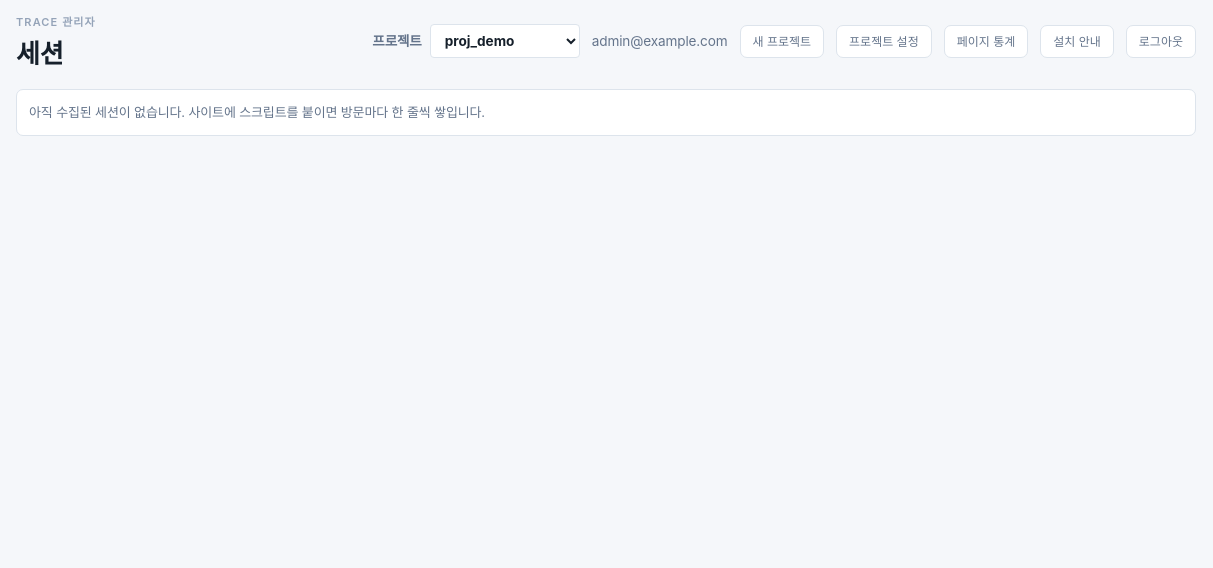
App 프로젝트 설정 › 프로젝트 설정을 저장하고 성공 메시지를 보여준다
This screenshot has width=1213, height=568.
Click the button "프로젝트 설정": (884, 41) [836,25,932,58]
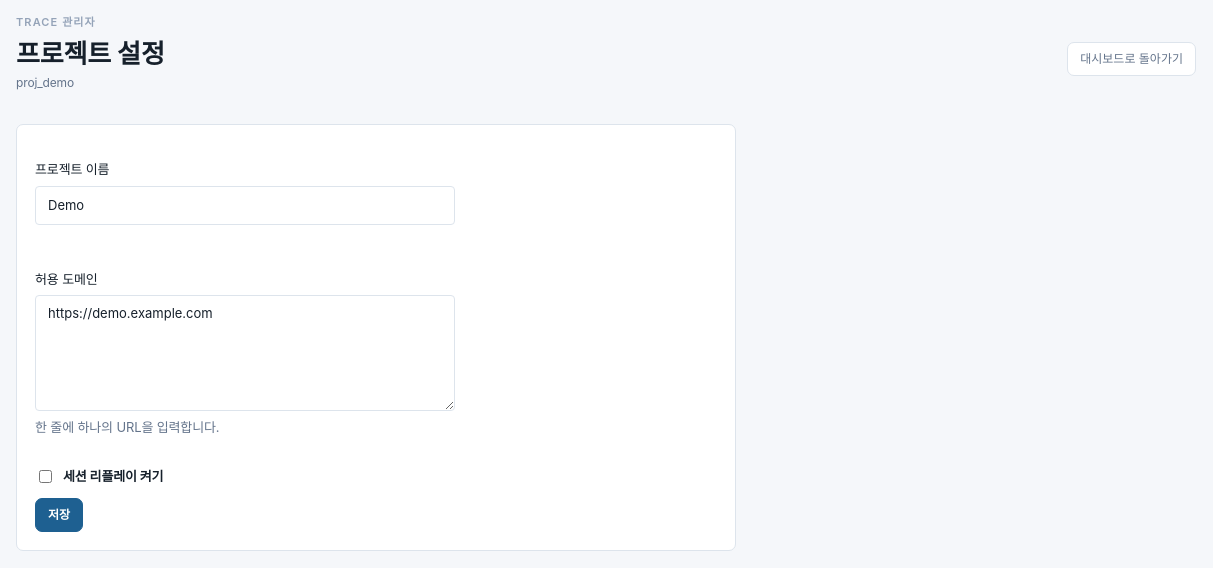
Replace the text in the field labelled "프로젝트 이름" with "New Demo": (245, 205) [35,186,455,225]
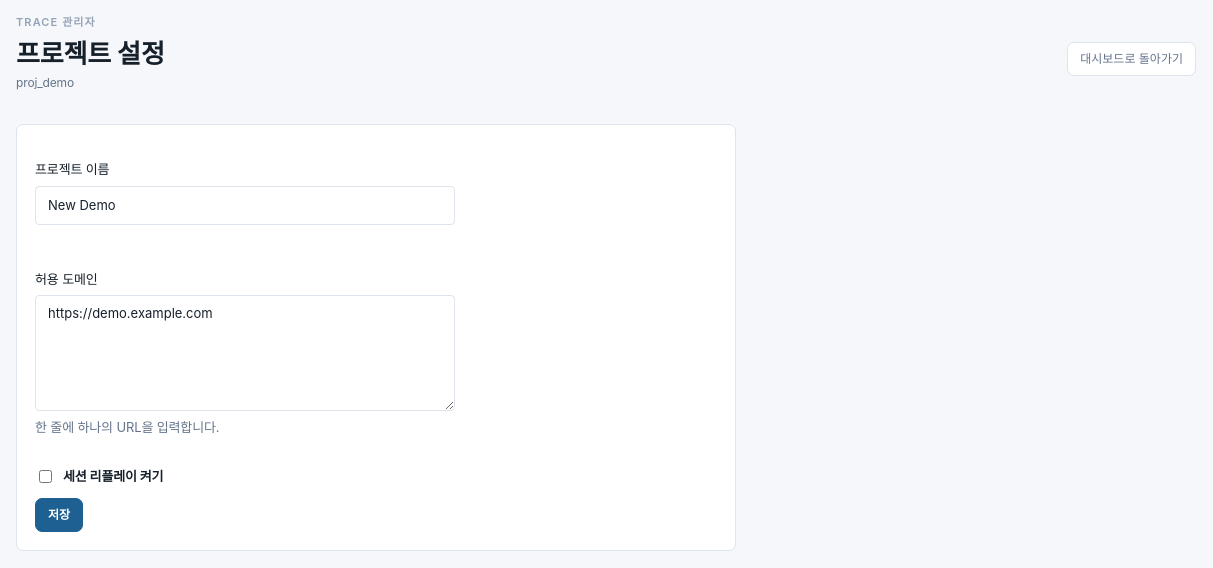
Replace the text in the text box labelled "허용 도메인" with "https://new.example.com": (245, 353) [35,295,455,411]
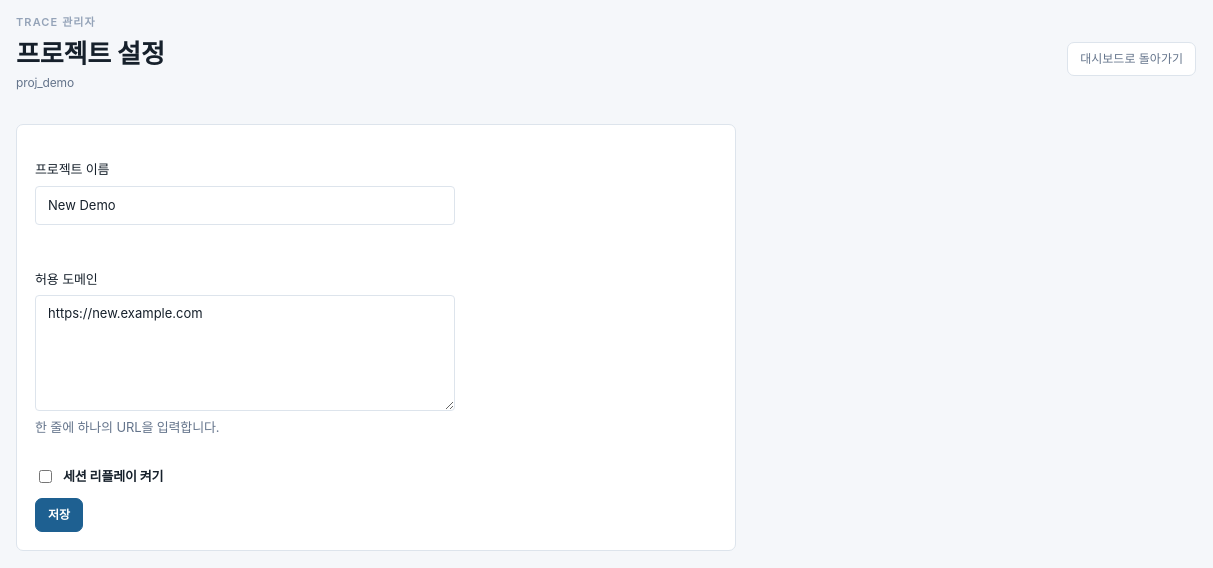
Click the button "저장": (59, 515) [35,498,83,532]
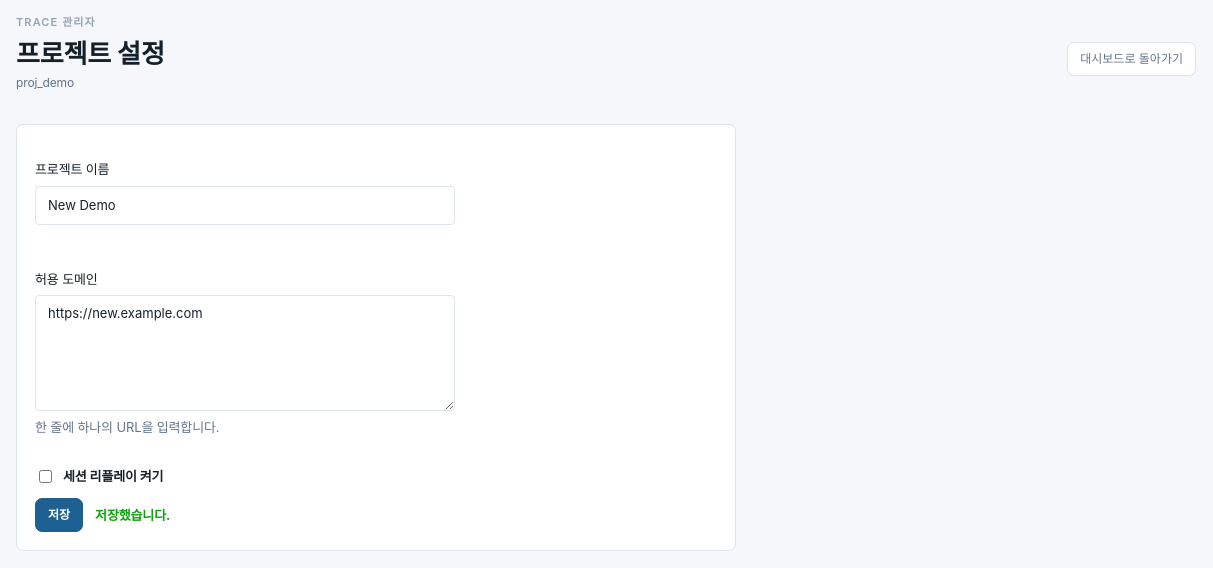
Expected: the text "저장했습니다." is shown, [95,505,170,525]
